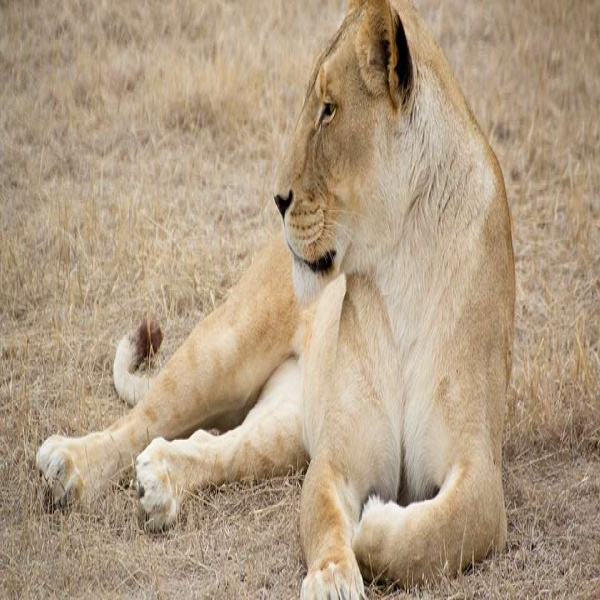Lion: (31, 2, 520, 600)
